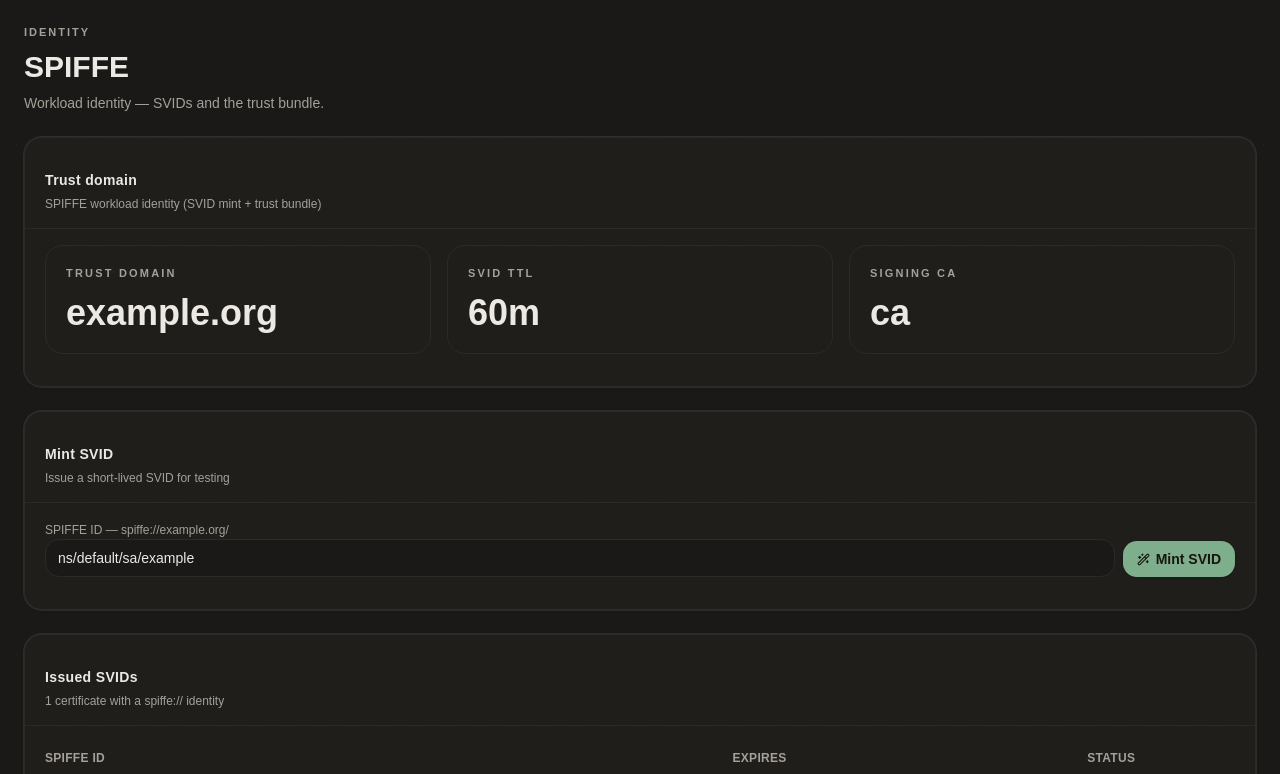
Scenario: SPIFFE page › mints an SVID from the form
The width and height of the screenshot is (1280, 774).
Replace the text in the field with placeholder "ns/prod/sa/checkout" with "ns/prod/sa/checkout" at (580, 558), box [45,539,1115,577]
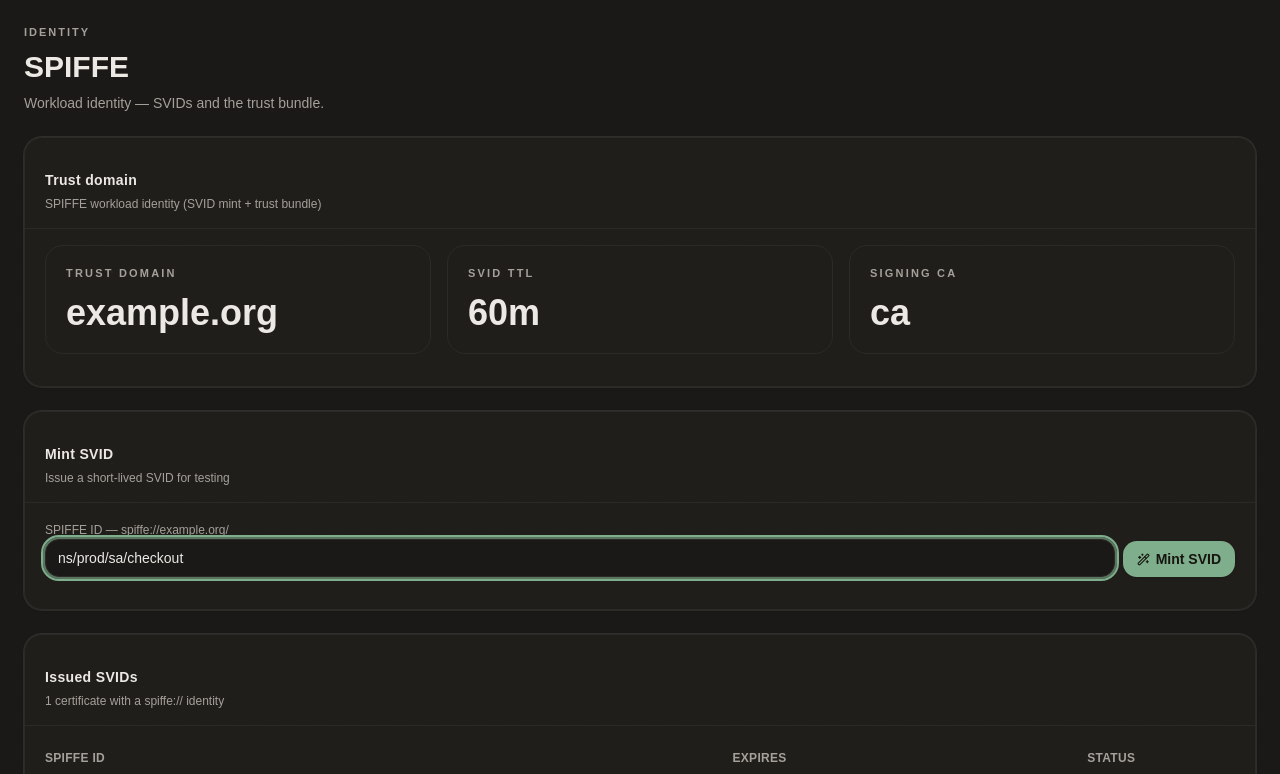
Click the button "Mint SVID" at (1179, 559), box [1123,541,1235,577]
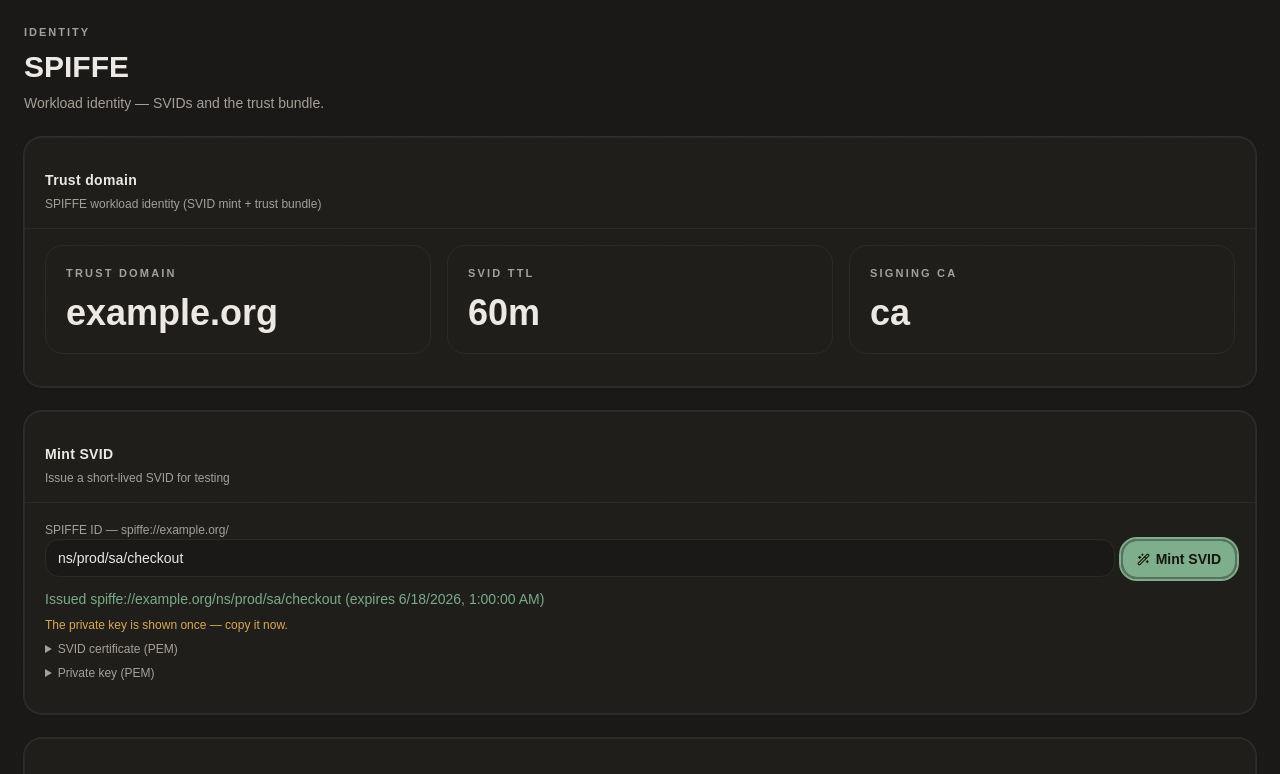
Expected: the text "The private key is shown once — copy it now." is shown, [45,618,288,632]
